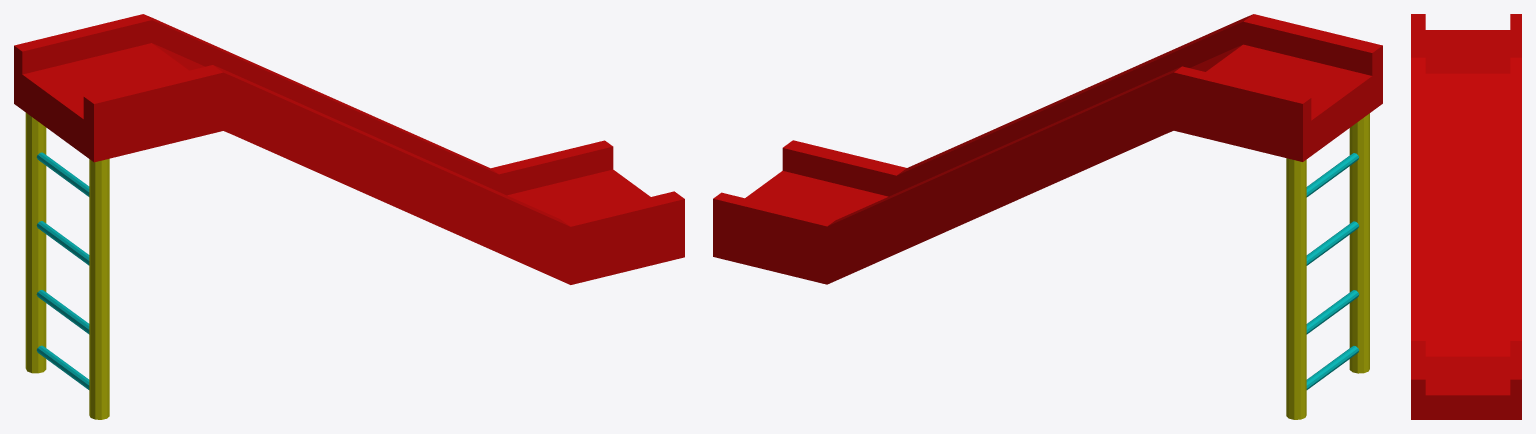
The model's file is PlaygroundSlide.fbx.
The picture shows the model from 3 angles, left to right: view 1: azimuth 30°, elevation 25°; view 2: azimuth 150°, elevation 25°; view 3: azimuth 270°, elevation 25°; orthographic projection. The views are drawn at different scales.
Visible parts, largest first — view 1: pCube17; view 2: pCube17; view 3: pCube17.
Boxes of the visible parts, <box> form: pCube17: <box>14,14,684,419</box>; pCube17: <box>713,14,1382,419</box>; pCube17: <box>1411,14,1521,419</box>.
Bounding box in the file's own units: 4.26 × 2.22 × 1.
